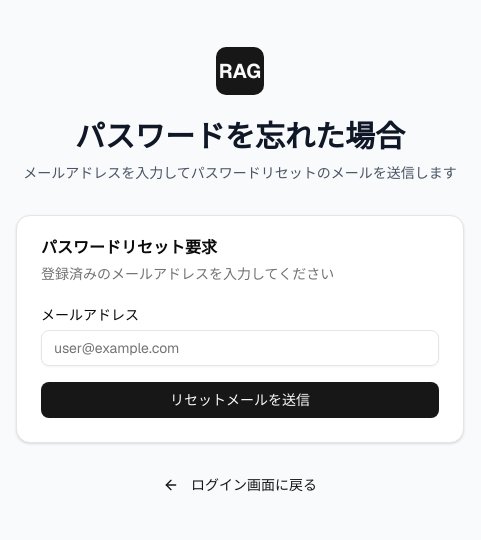
Test: PasswordResetForm › リセット要求失敗時のエラー表示
メールアドレスを入力
Type "test@example.com" into the field labelled "メールアドレス" at (240, 348), box [41,330,439,366]
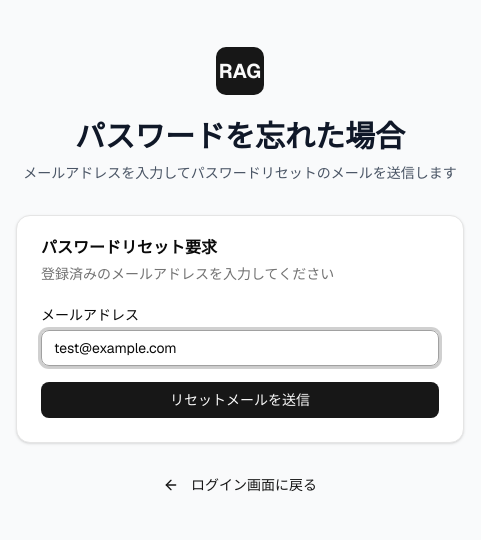
送信ボタンをクリック
Click the button "リセットメールを送信" at (240, 400), box [41,382,439,418]
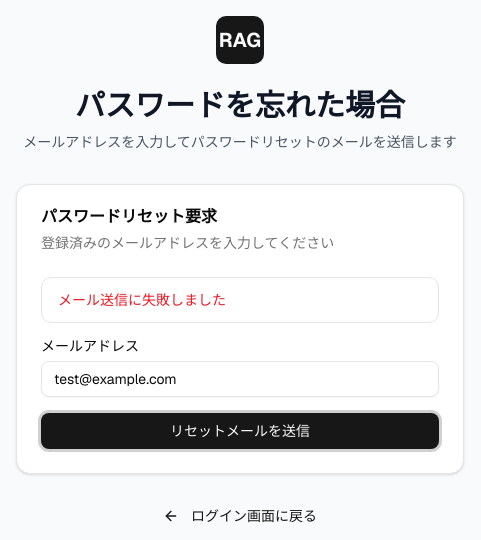
expect the text "メール送信に失敗しました" is shown: met, box [58,290,226,308]
